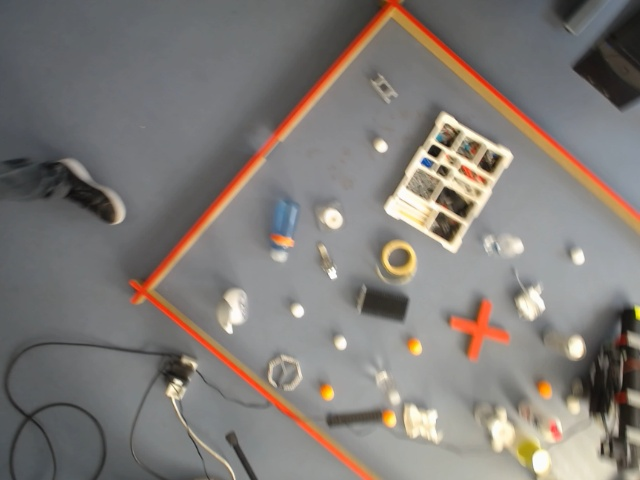orange: (383, 409, 395, 428), (408, 338, 421, 355), (539, 380, 551, 398), (320, 384, 333, 400)
white: (223, 288, 247, 319), (532, 449, 551, 476), (490, 419, 507, 447), (567, 334, 585, 360), (323, 206, 342, 230), (218, 301, 232, 333), (216, 300, 230, 327), (570, 246, 585, 265), (504, 422, 515, 444), (491, 434, 503, 453), (568, 395, 580, 414), (290, 302, 304, 318), (388, 389, 400, 407), (334, 334, 347, 350), (494, 411, 507, 427), (572, 377, 583, 395), (376, 370, 387, 386), (222, 318, 233, 334), (496, 406, 506, 421), (432, 429, 442, 444), (319, 243, 327, 257), (633, 304, 640, 320), (328, 266, 336, 279)
